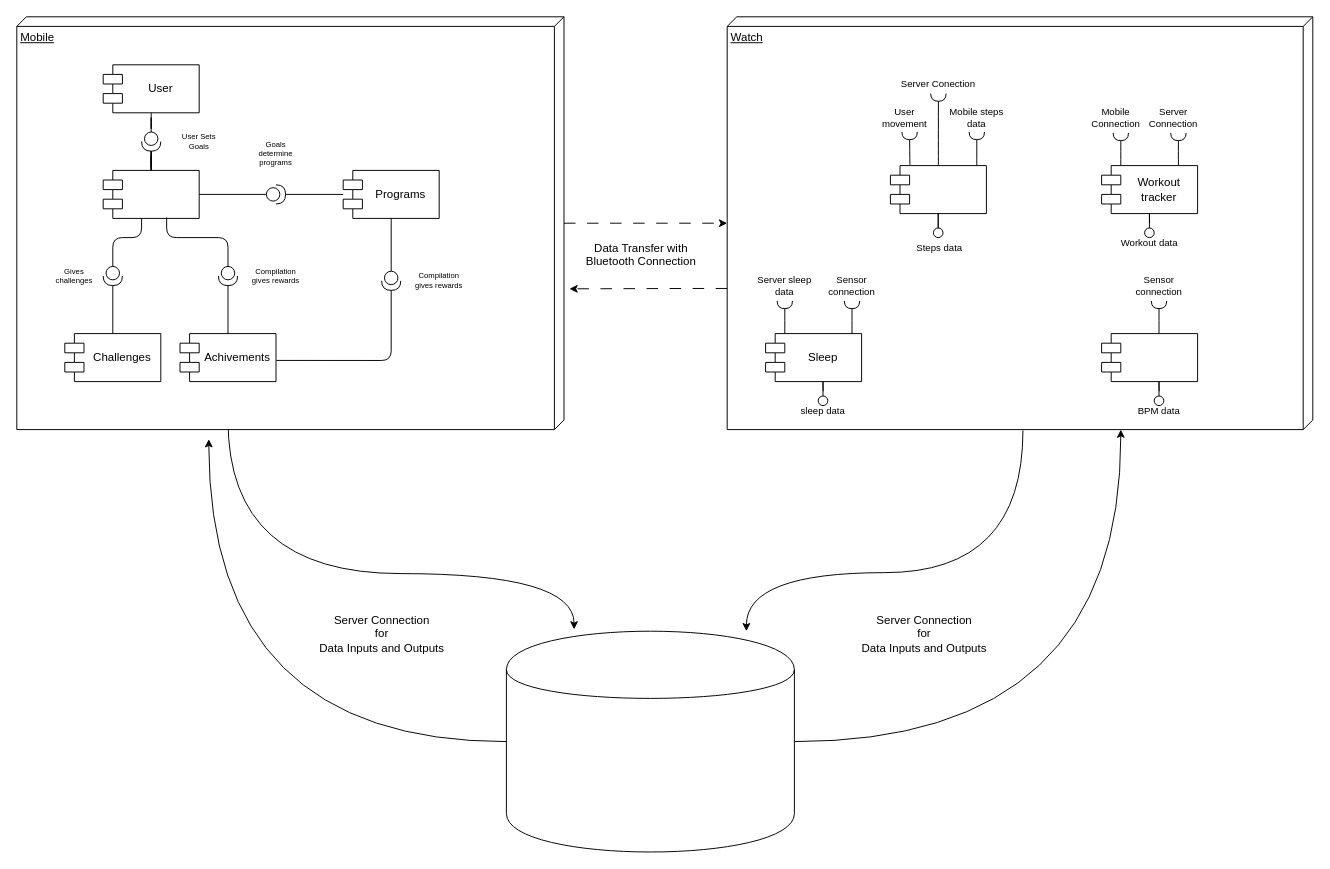
Some shapes in this 1330 by 869 pixel diagram are drawn without their labels. Here are the shapes that lost their labels. From the top down, the box of each, then its label:
(102, 169, 199, 218): Goals
(889, 165, 986, 214): Steps
(1101, 333, 1198, 382): BPM
(505, 630, 794, 852): Server
